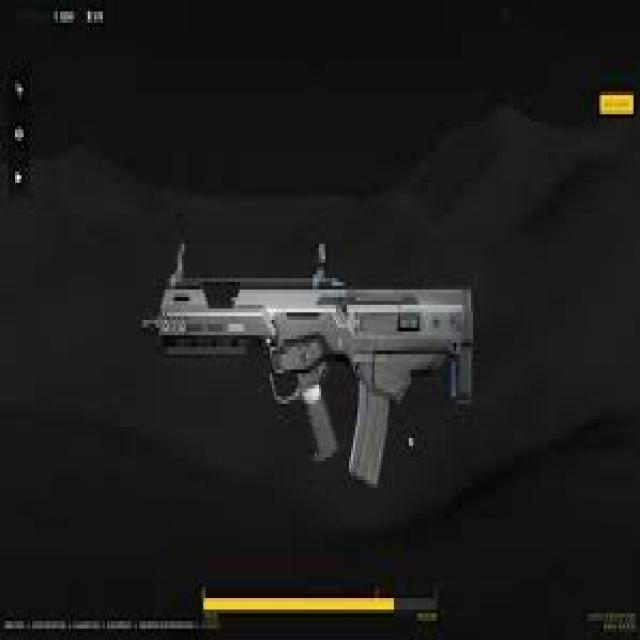weapon: (139, 241, 492, 500)
